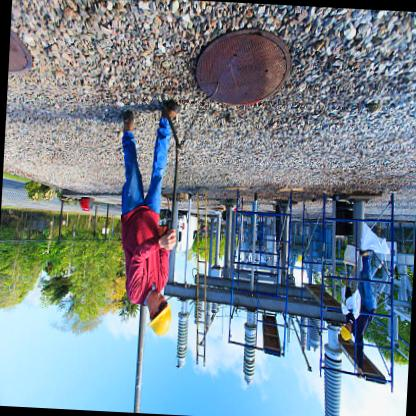manholes: (178, 17, 300, 124), (6, 27, 36, 94)
